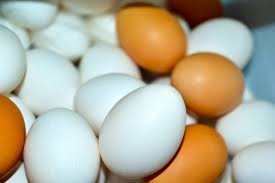eggs: (102, 86, 182, 167), (24, 105, 104, 183), (18, 42, 84, 117), (79, 67, 149, 125), (193, 14, 267, 68), (220, 96, 275, 152)
